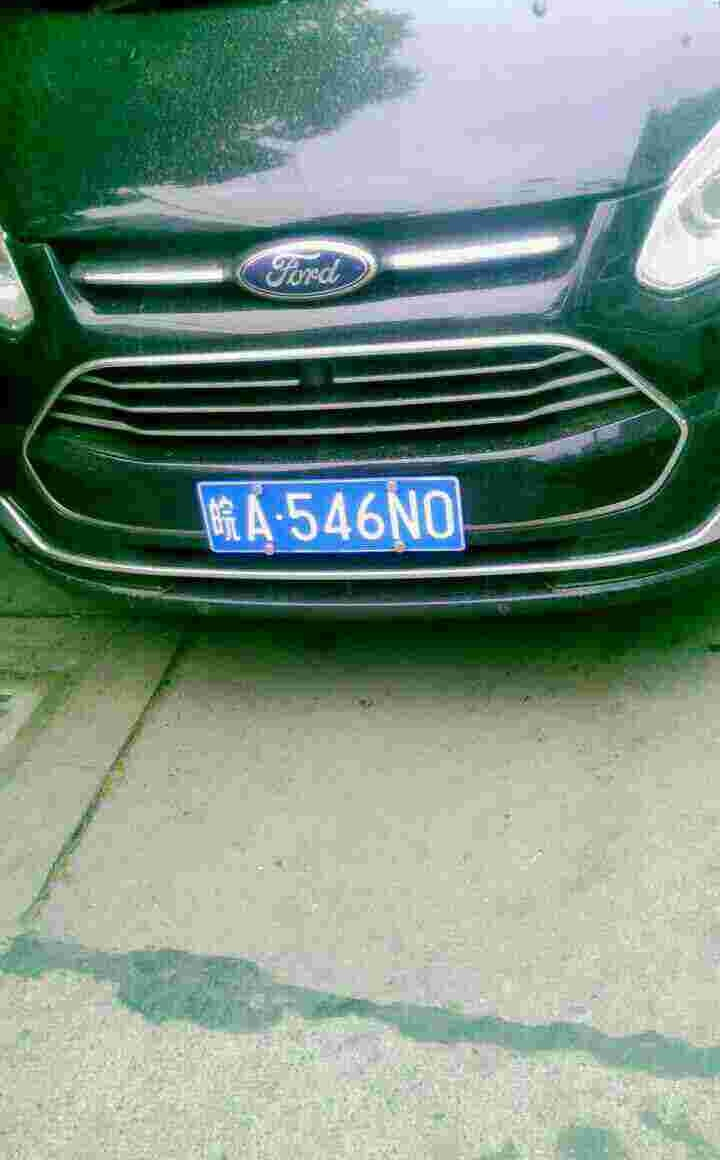plate: (196, 475, 472, 558)
